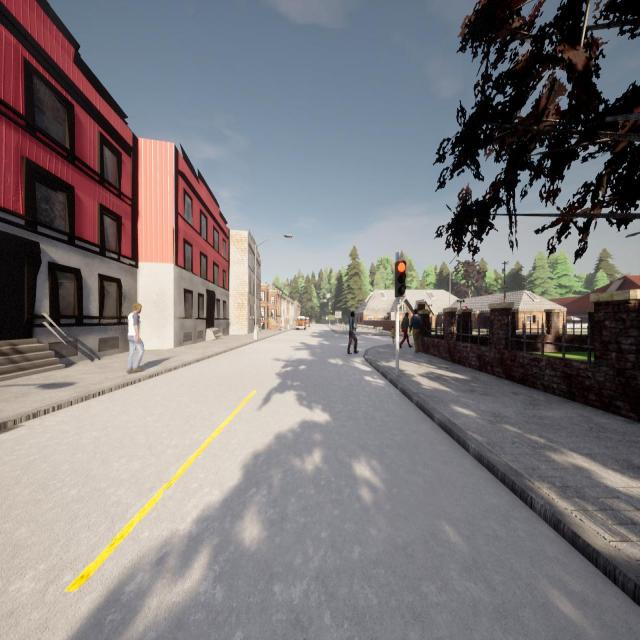Pedestrian: (126, 303, 144, 373), (410, 309, 423, 353), (347, 310, 359, 355), (400, 312, 413, 349), (390, 325, 396, 347), (268, 316, 272, 331)
Traffic_Signs: (326, 317, 328, 320)
Vehicle: (296, 316, 306, 330), (306, 317, 310, 327)
traffic_light: (395, 260, 406, 296)
